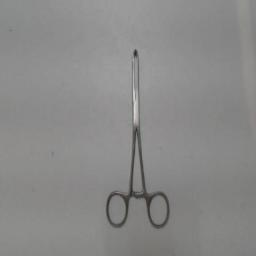Allis Tissue Forceps: (103, 42, 175, 232)
